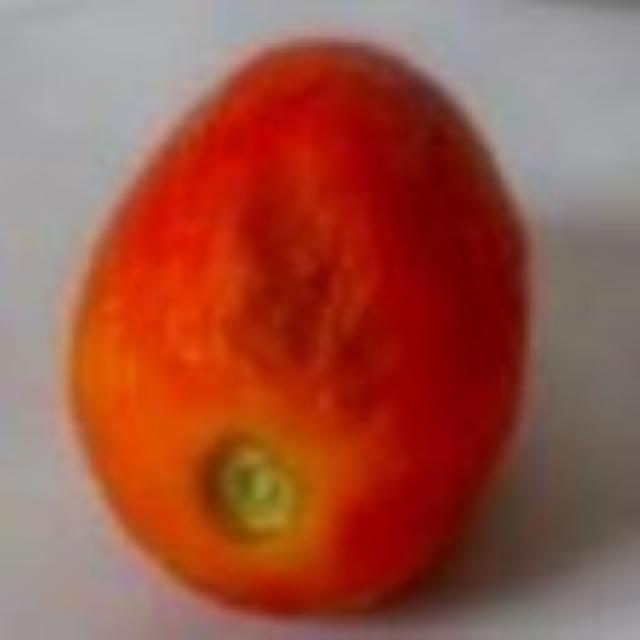defect: (64, 36, 534, 611)
